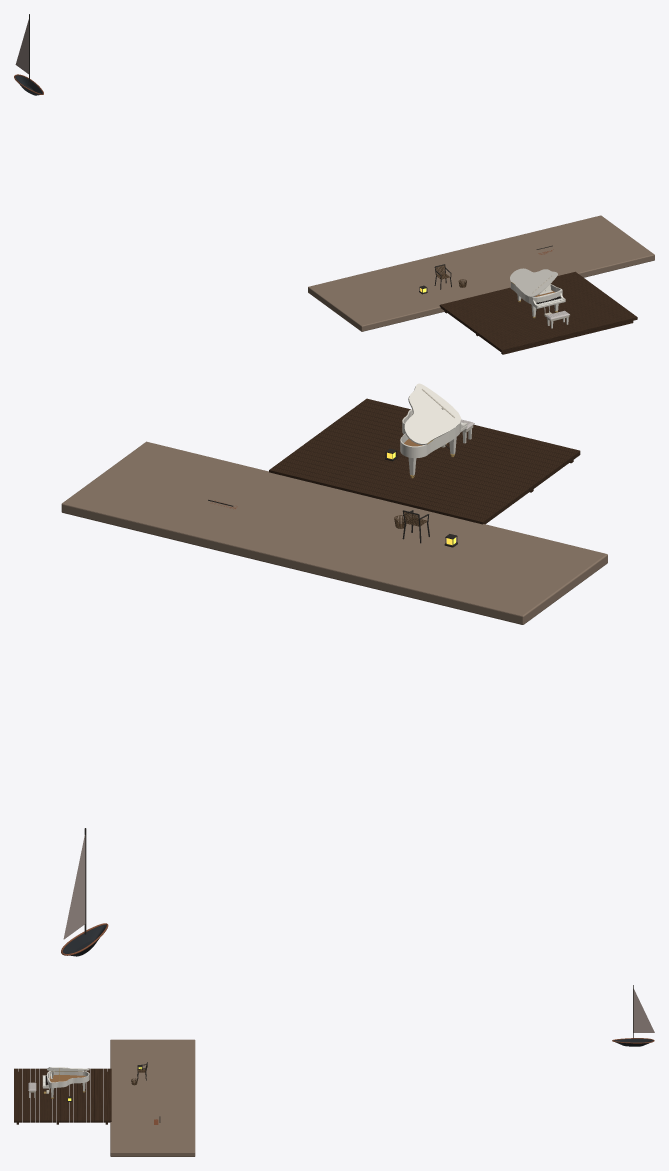
The model's file is piano_seaside_material.glb.
The picture shows the model from 3 angles, top to bottom: view 1: azimuth 30°, elevation 25°; view 2: azimuth 150°, elevation 25°; view 3: azimuth 270°, elevation 25°; orthographic projection. The views are drawn at different scales.
Parts seen in each view (by area): view 1: S01 local sand patch, P02 raised lid, D01 deck plank 00; view 2: S01 local sand patch, P02 raised lid, D01 deck plank 22, V02 triangular sail, D01 deck plank 20, D01 deck plank 18, D01 deck plank 19, D01 deck plank 17, D01 deck plank 16, D01 deck plank 21, D01 deck plank 15, D01 deck plank 14 (+9 smaller); view 3: S01 local sand patch, V02 triangular sail, P01 grand piano curved rim and bottom, D01 deck plank 01, D01 deck plank 02, D01 deck plank 18, D01 deck plank 19, D01 deck plank 21, D01 deck plank 22.
Part boxes in pixels (left/top/right/bottom): S01 local sand patch: left=308, top=215, right=654, bottom=331; P02 raised lid: left=510, top=268, right=557, bottom=297; D01 deck plank 00: left=499, top=315, right=637, bottom=352; S01 local sand patch: left=61, top=441, right=607, bottom=624; P02 raised lid: left=404, top=383, right=461, bottom=444; D01 deck plank 22: left=269, top=467, right=486, bottom=524; V02 triangular sail: left=63, top=835, right=85, bottom=939; D01 deck plank 20: left=278, top=461, right=495, bottom=519; D01 deck plank 18: left=286, top=454, right=503, bottom=513; D01 deck plank 19: left=282, top=458, right=499, bottom=516; D01 deck plank 17: left=290, top=451, right=507, bottom=510; D01 deck plank 16: left=295, top=448, right=512, bottom=507; D01 deck plank 21: left=273, top=464, right=490, bottom=522; D01 deck plank 15: left=299, top=445, right=516, bottom=504; D01 deck plank 14: left=303, top=442, right=520, bottom=500; S01 local sand patch: left=110, top=1039, right=195, bottom=1156; V02 triangular sail: left=633, top=989, right=654, bottom=1032; P01 grand piano curved rim and bottom: left=47, top=1071, right=89, bottom=1088; D01 deck plank 01: left=18, top=1068, right=22, bottom=1122; D01 deck plank 02: left=22, top=1068, right=26, bottom=1122; D01 deck plank 18: left=90, top=1068, right=94, bottom=1122; D01 deck plank 19: left=94, top=1068, right=98, bottom=1122; D01 deck plank 21: left=103, top=1068, right=107, bottom=1122; D01 deck plank 22: left=107, top=1068, right=111, bottom=1122.
Size of what is drawn, in the model's own units: 16.36 by 3.99 by 38.42.
16 materials, 1 textured.
